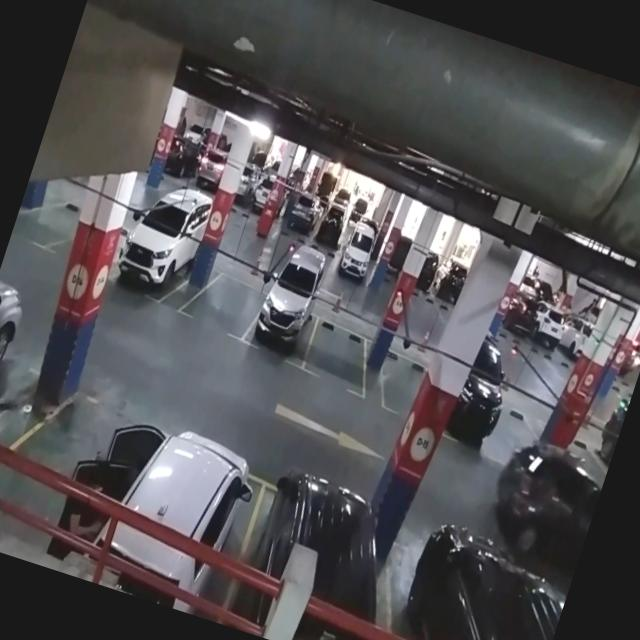empty: (298, 314, 381, 396), (180, 264, 262, 344), (370, 348, 430, 422)
occupied: (236, 464, 404, 614), (106, 415, 272, 558), (108, 196, 206, 310), (242, 272, 326, 368)
